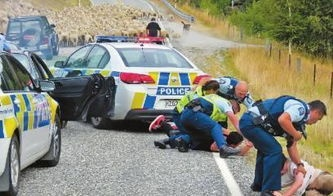falling: (269, 150, 333, 194)
